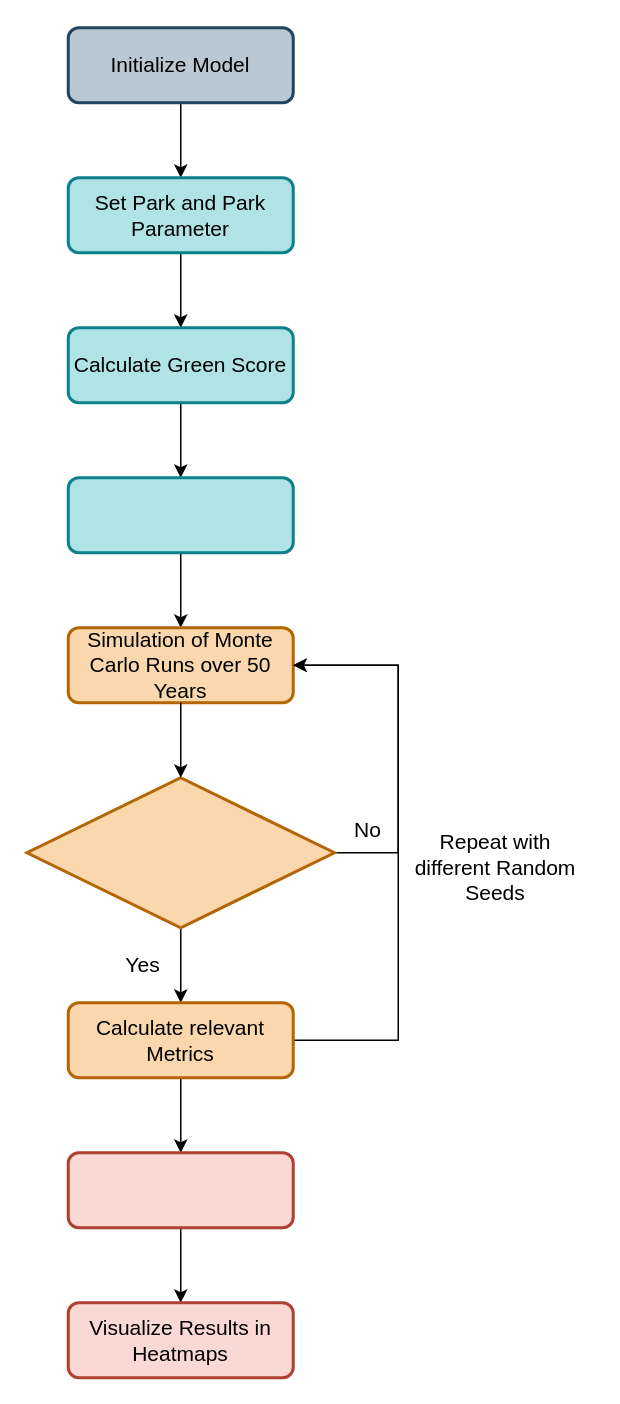
Some shapes in this 620 by 1404 pixel diagram are drawn without their labels. Here are the shapes that lost their labels. From the top down, the centre of each, then its label:
point 180,515: Distribute Households randomly
point 180,852: Check for Tipping Points
point 180,1189: Aggregate Results
